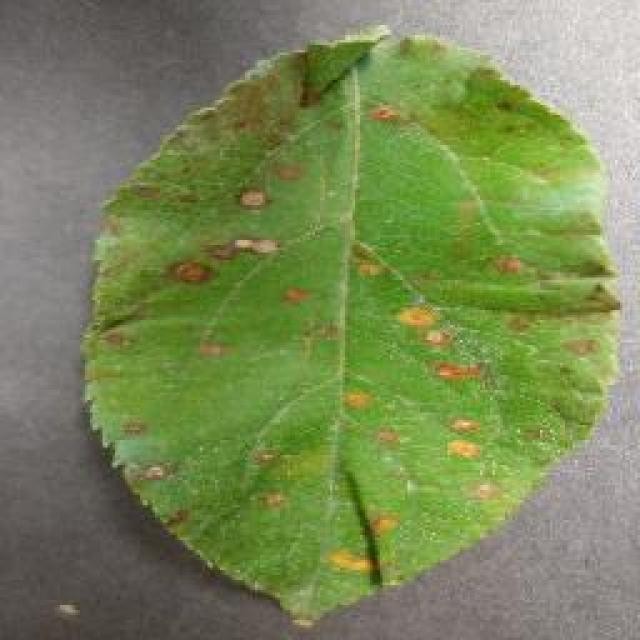Apple___Cedar_apple_rust: (74, 17, 628, 636)
